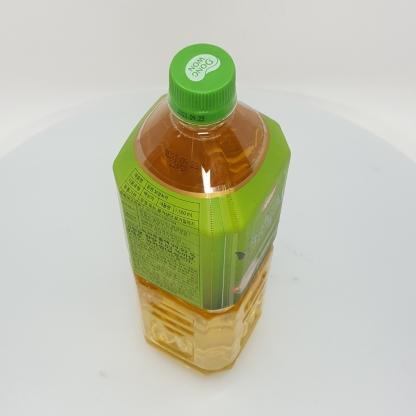------1500ML: (112, 43, 291, 376)
